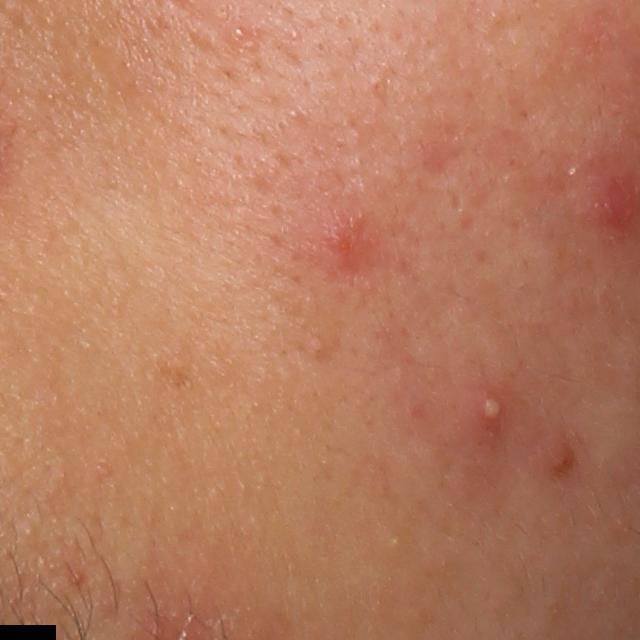comedo: (383, 530, 407, 551)
papule: (325, 211, 368, 268), (541, 440, 576, 475)
pustule: (463, 384, 514, 440)
